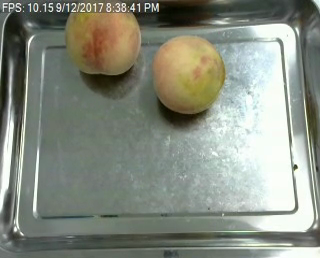Peach: (152, 33, 225, 114), (65, 0, 141, 75)
